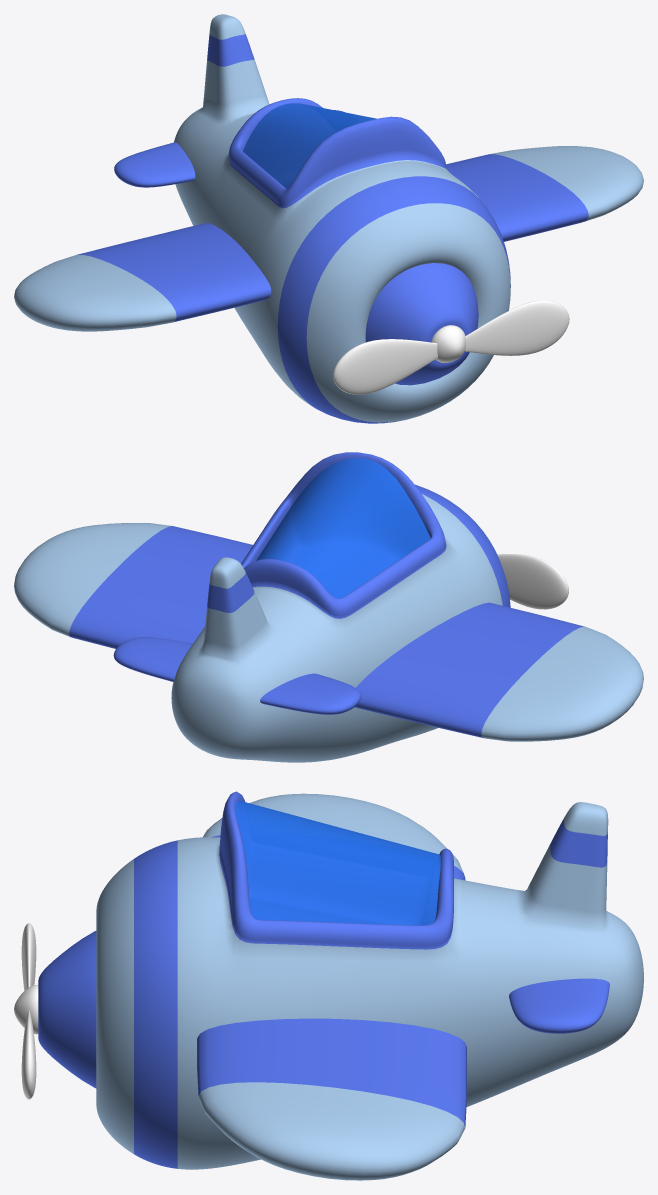
The model's file is 小飞机单个07042.glb.
The picture shows the model from 3 angles, top to bottom: view 1: azimuth 30°, elevation 25°; view 2: azimuth 150°, elevation 25°; view 3: azimuth 270°, elevation 25°; orthographic projection. The views are drawn at different scales.
Visible parts, largest first — view 1: Cube, 立方体.002, 螺旋桨, 立方体, 平面, 立方体.003, 立方体.001; view 2: Cube, 立方体.002, 平面, 立方体.003, 螺旋桨; view 3: Cube, 立方体.002, 平面, 立方体, 立方体.003, 螺旋桨, 立方体.001.
Part boxes in pixels (<box>): Cube: <box>174,14,510,423</box>; 立方体.002: <box>14,146,643,331</box>; 螺旋桨: <box>333,300,569,394</box>; 立方体: <box>365,263,478,385</box>; 平面: <box>243,103,376,188</box>; 立方体.003: <box>114,110,344,187</box>; 立方体.001: <box>431,325,465,362</box>; Cube: <box>171,452,510,762</box>; 立方体.002: <box>14,523,643,741</box>; 平面: <box>256,458,430,598</box>; 立方体.003: <box>113,637,361,714</box>; 螺旋桨: <box>497,554,568,609</box>; Cube: <box>96,791,643,1169</box>; 立方体.002: <box>197,793,466,1180</box>; 平面: <box>235,800,440,925</box>; 立方体: <box>38,931,96,1088</box>; 立方体.003: <box>509,890,609,1033</box>; 螺旋桨: <box>21,923,36,1099</box>; 立方体.001: <box>14,984,38,1034</box>.
Bounding box in the file's own units: 8.28 × 3.7 × 6.05.
